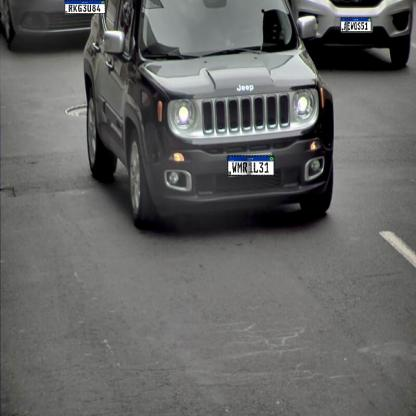PlacaM: (227, 155, 275, 176), (64, 0, 106, 14), (341, 17, 371, 32)
